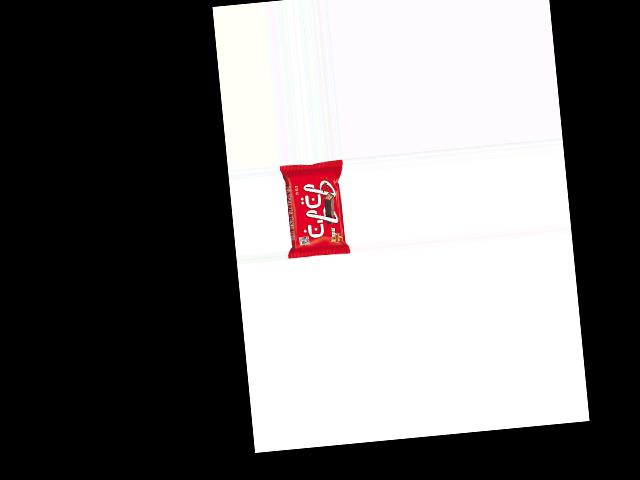chocolate: (278, 160, 350, 258)
